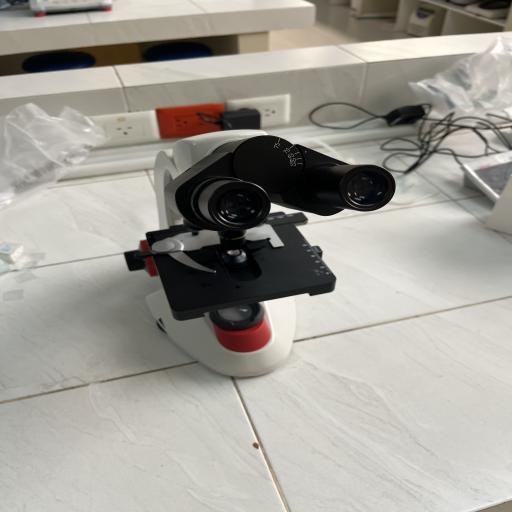Microscopio_Binocular: (88, 122, 432, 388)
